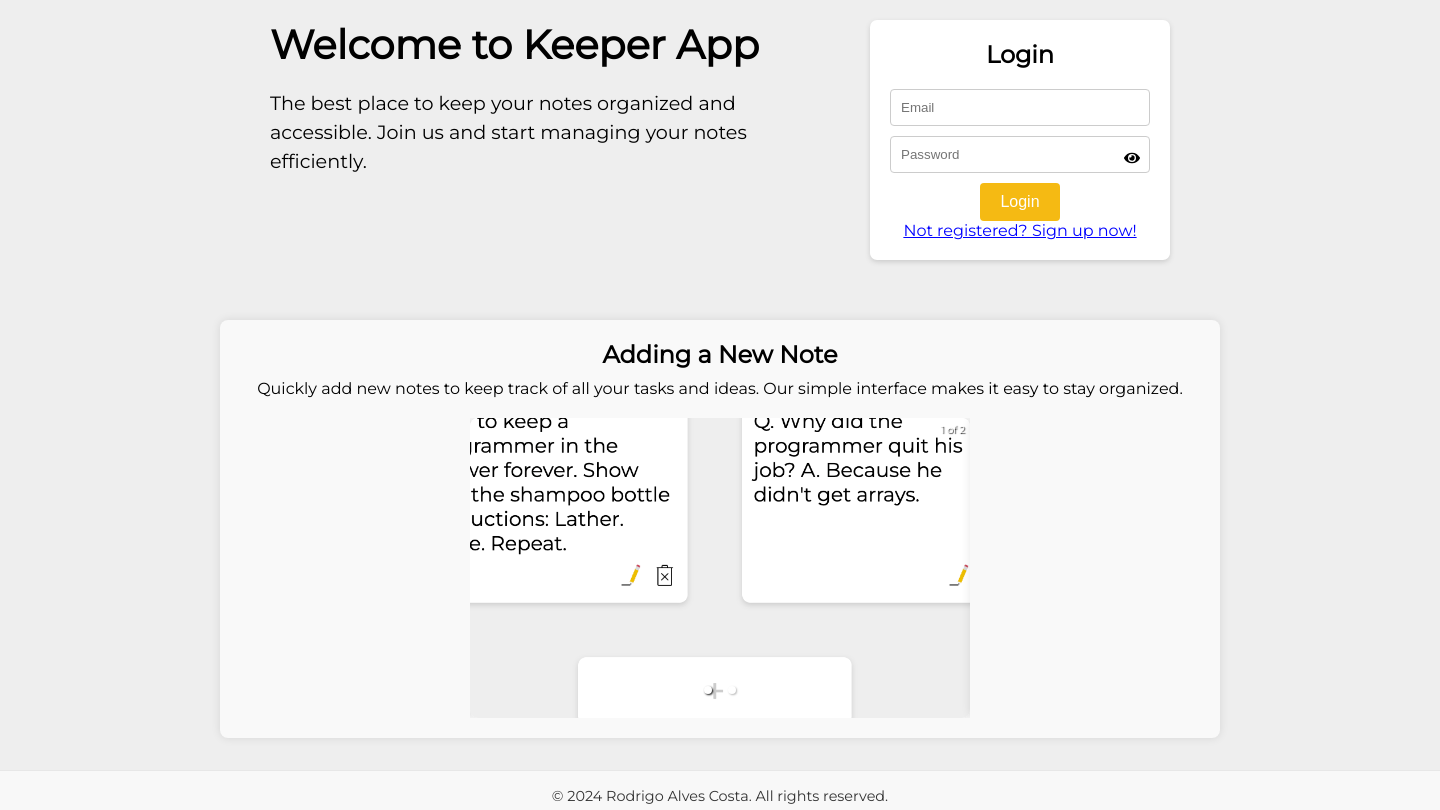
Scenario: App › should display an error message if typing wrong credentials
In the field with placeholder "Email": (1020, 108) [890,89,1150,126], type "invalid@user.com"
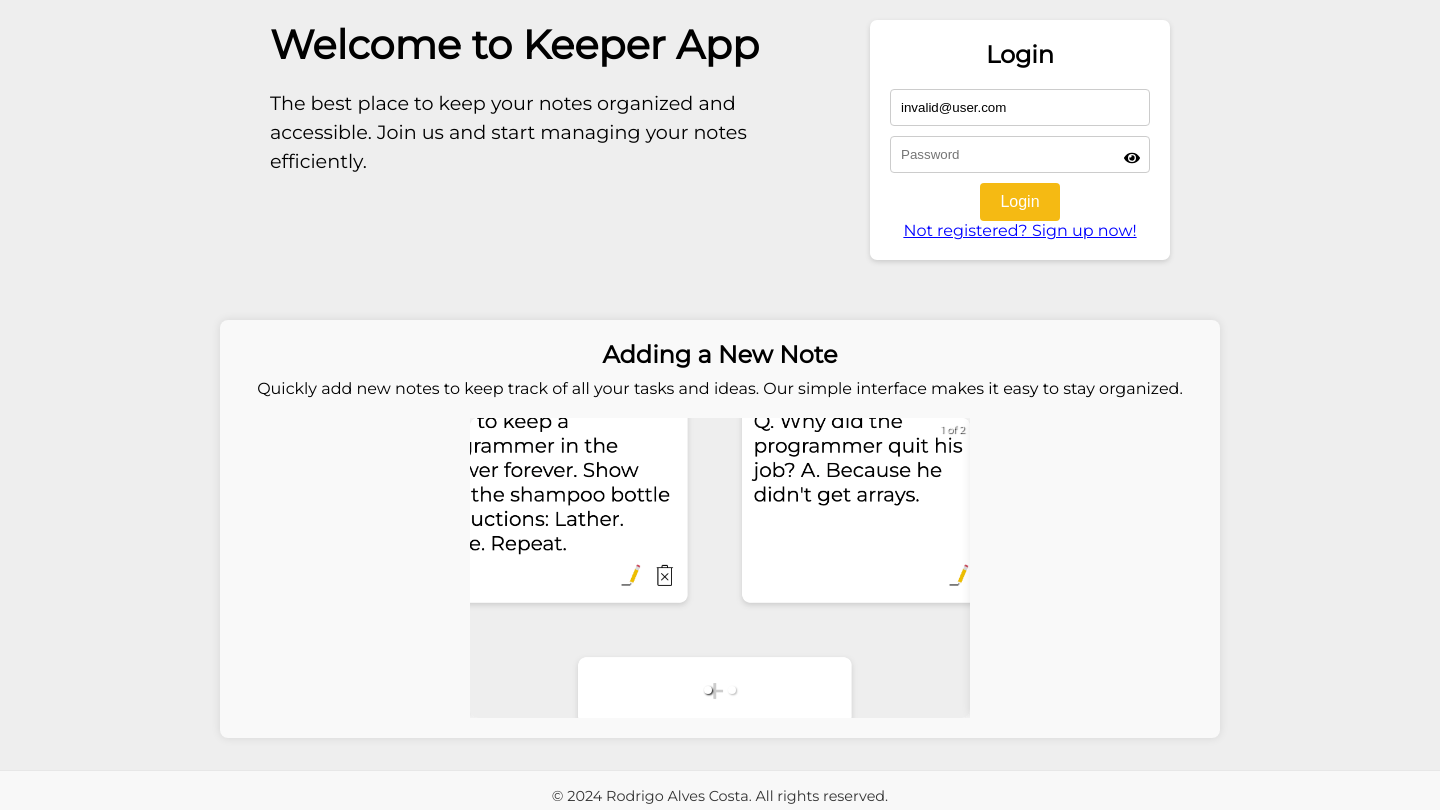
In the password field with placeholder "Password": (1020, 154) [890,136,1150,173], type "wrongpassword"
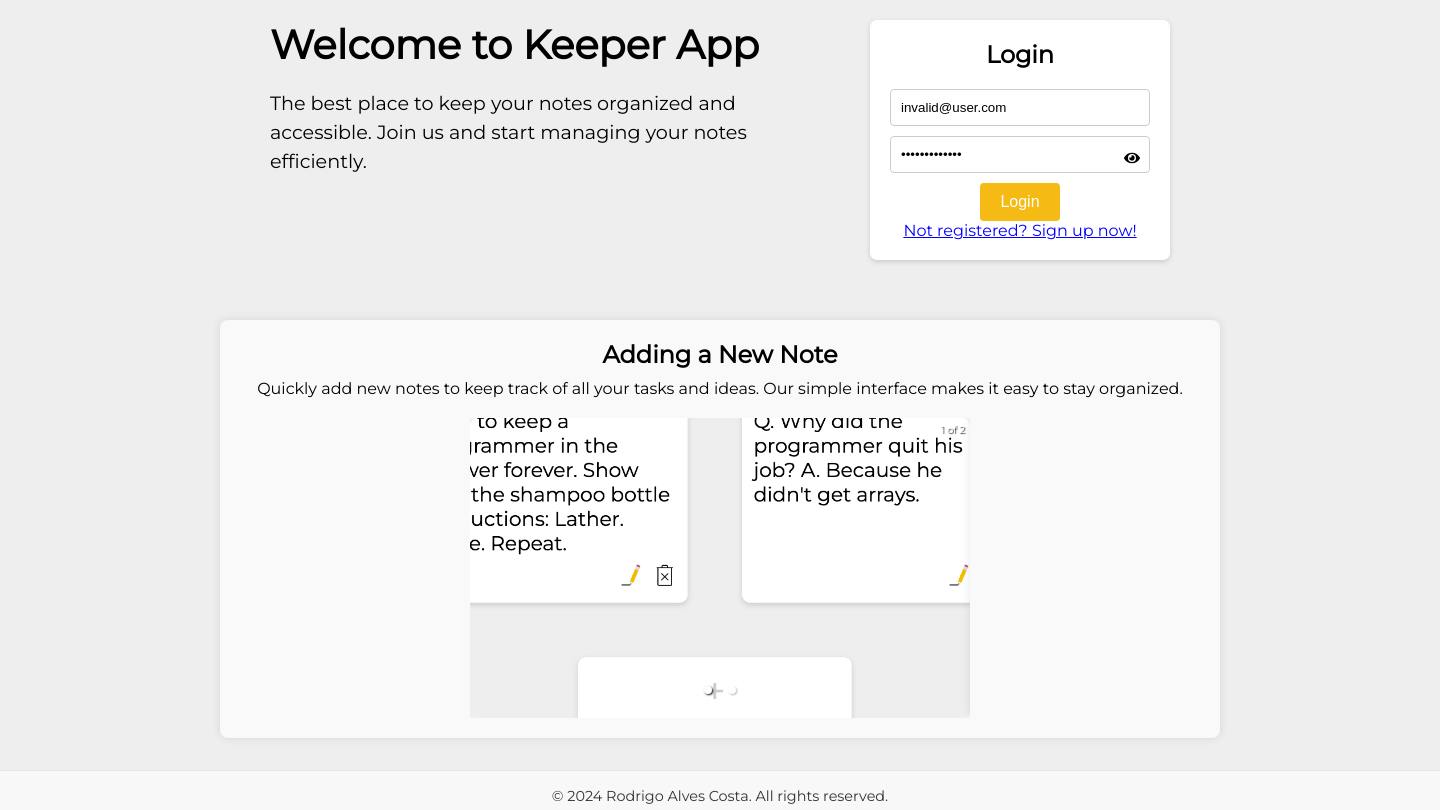
Click the button "Login": (1020, 202) [980,183,1060,221]
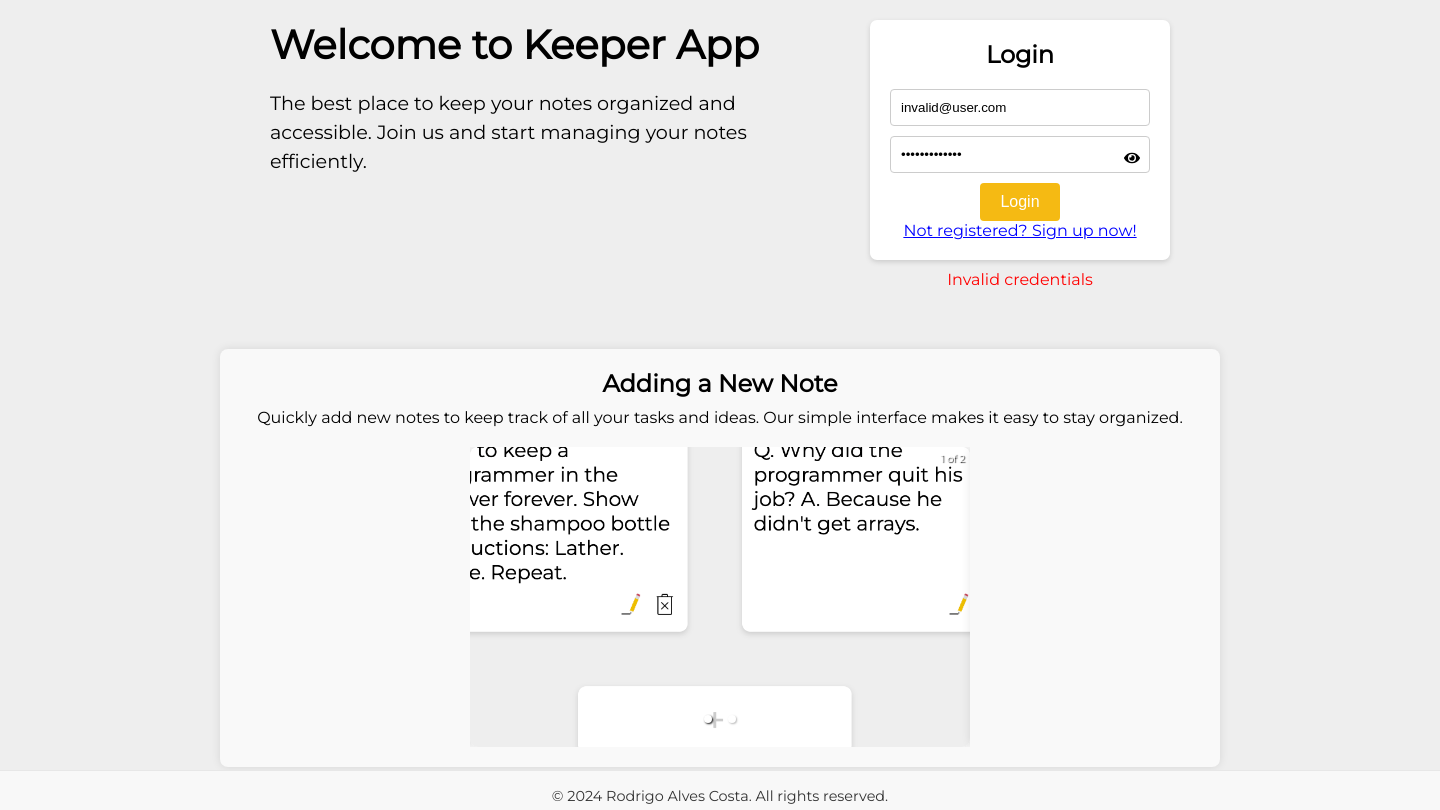
Result: the text "Invalid credentials" is shown at [947,270,1093,289]
